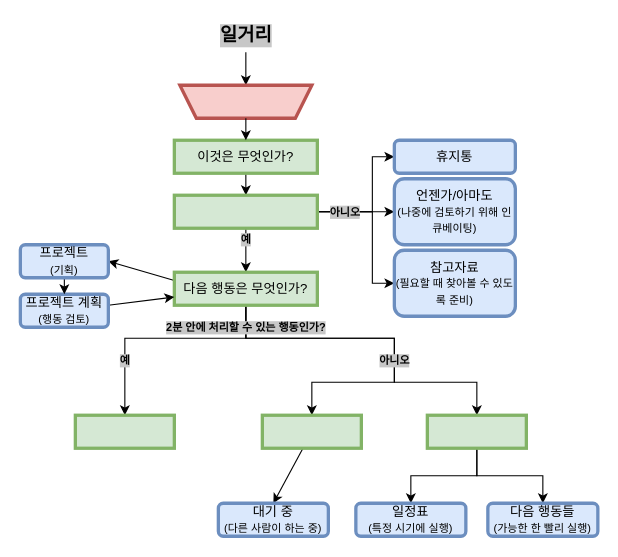
The diagram is 618 pixels wide and 557 high, and some of its shapes have lost their labels. The shapes that lost their labels are listed below. From the top down, each one's box as (x1, y1, x2, y2) in pixels, then its label:
(178, 83, 313, 119): 수집함
(172, 193, 318, 229): 실행할 행동이 있는가?
(73, 413, 175, 449): 실행한다
(260, 413, 362, 449): 위임한다
(425, 413, 527, 449): 연기한다
